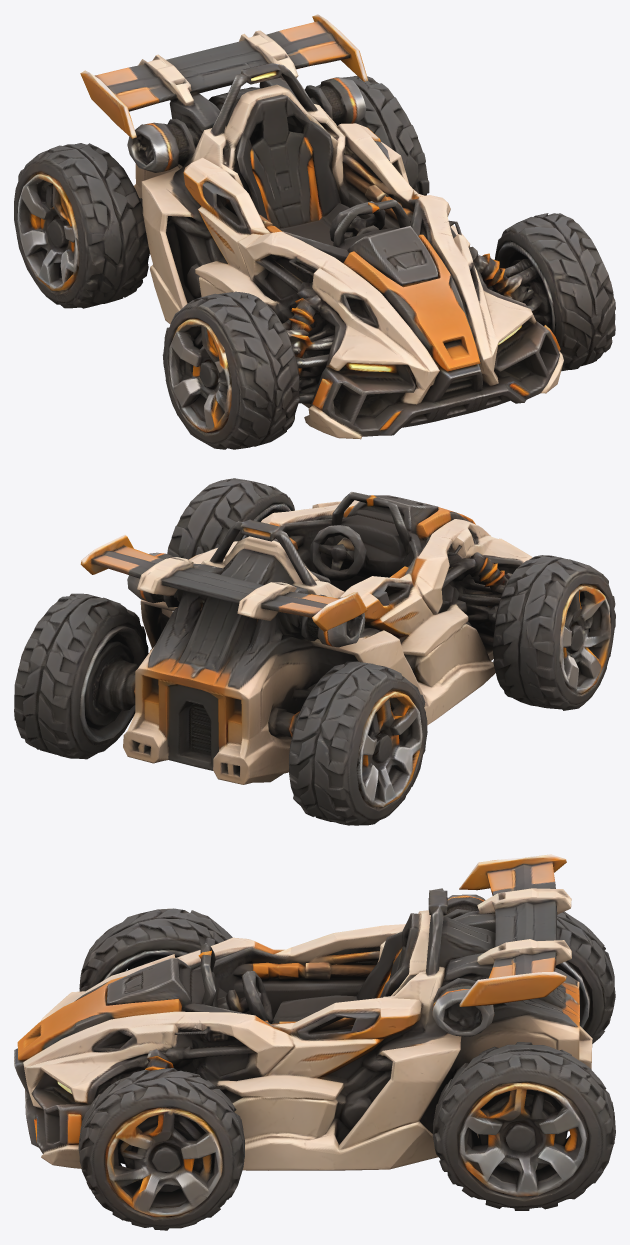
File: 07-amber-dune-shaded.glb
The picture shows the model from 3 angles, top to bottom: view 1: azimuth 30°, elevation 25°; view 2: azimuth 150°, elevation 25°; view 3: azimuth 270°, elevation 25°; orthographic projection. The views are drawn at different scales.
Parts seen in each view (by area): view 1: model; view 2: model; view 3: model.
Boxes of the visible parts, left/top/right/bottom form: model: left=14, top=14, right=615, bottom=449; model: left=14, top=478, right=615, bottom=825; model: left=14, top=854, right=615, bottom=1230.
Size of the model in its own units: 1.49 by 0.8412 by 1.9.
Materials: 1 (1 with a texture image).
